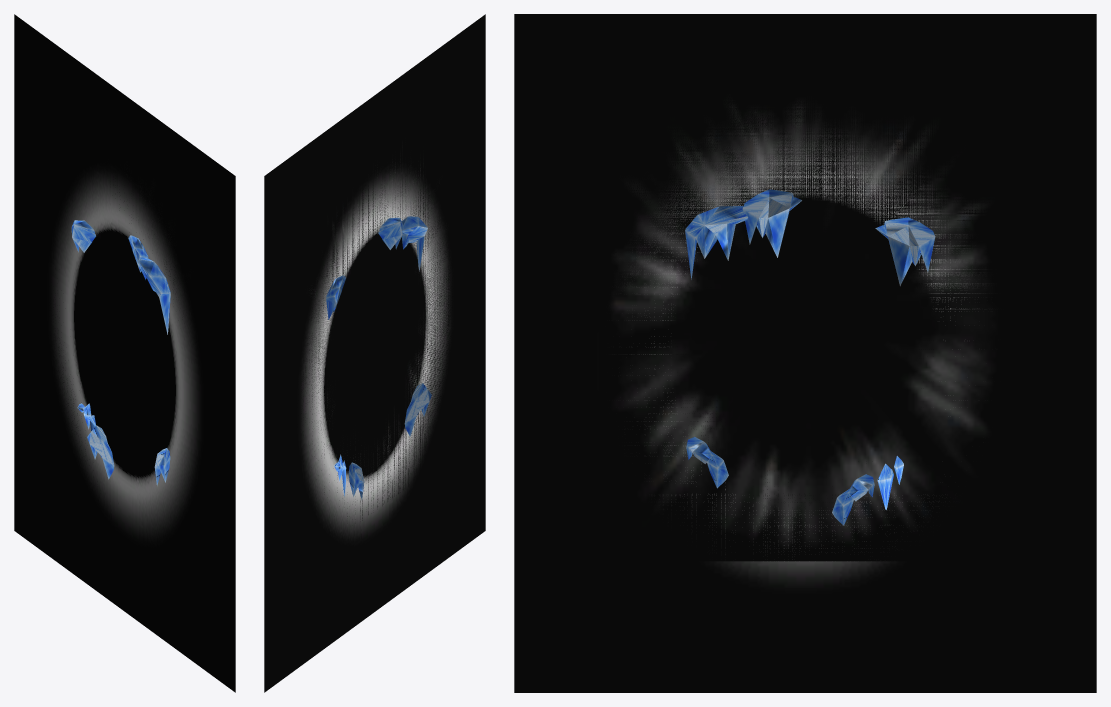
Rendered from ice_barrier_state_chest.obj.
3 views of the same model, side by side, from view 1: azimuth 30°, elevation 25°; view 2: azimuth 150°, elevation 25°; view 3: azimuth 270°, elevation 25° (orthographic). The views are drawn at different scales.
Parts seen in each view (by area): view 1: ice_barrier_state_chest0, ice_barrier_state_chest3, ice_barrier_state_chest1; view 2: ice_barrier_state_chest0, ice_barrier_state_chest1, ice_barrier_state_chest3; view 3: ice_barrier_state_chest0, ice_barrier_state_chest1, ice_barrier_state_chest3.
Part boxes in pixels (x1=…): ice_barrier_state_chest0: x1=14, y1=14, x2=235, y2=692; ice_barrier_state_chest3: x1=71, y1=220, x2=170, y2=485; ice_barrier_state_chest1: x1=46, y1=118, x2=203, y2=469; ice_barrier_state_chest0: x1=264, y1=14, x2=485, y2=692; ice_barrier_state_chest1: x1=296, y1=91, x2=453, y2=520; ice_barrier_state_chest3: x1=326, y1=216, x2=431, y2=500; ice_barrier_state_chest0: x1=514, y1=14, x2=1096, y2=692; ice_barrier_state_chest1: x1=599, y1=79, x2=1011, y2=561; ice_barrier_state_chest3: x1=685, y1=189, x2=935, y2=525.
Bounding box in the file's own units: 0.163 × 4.08 × 3.18.
